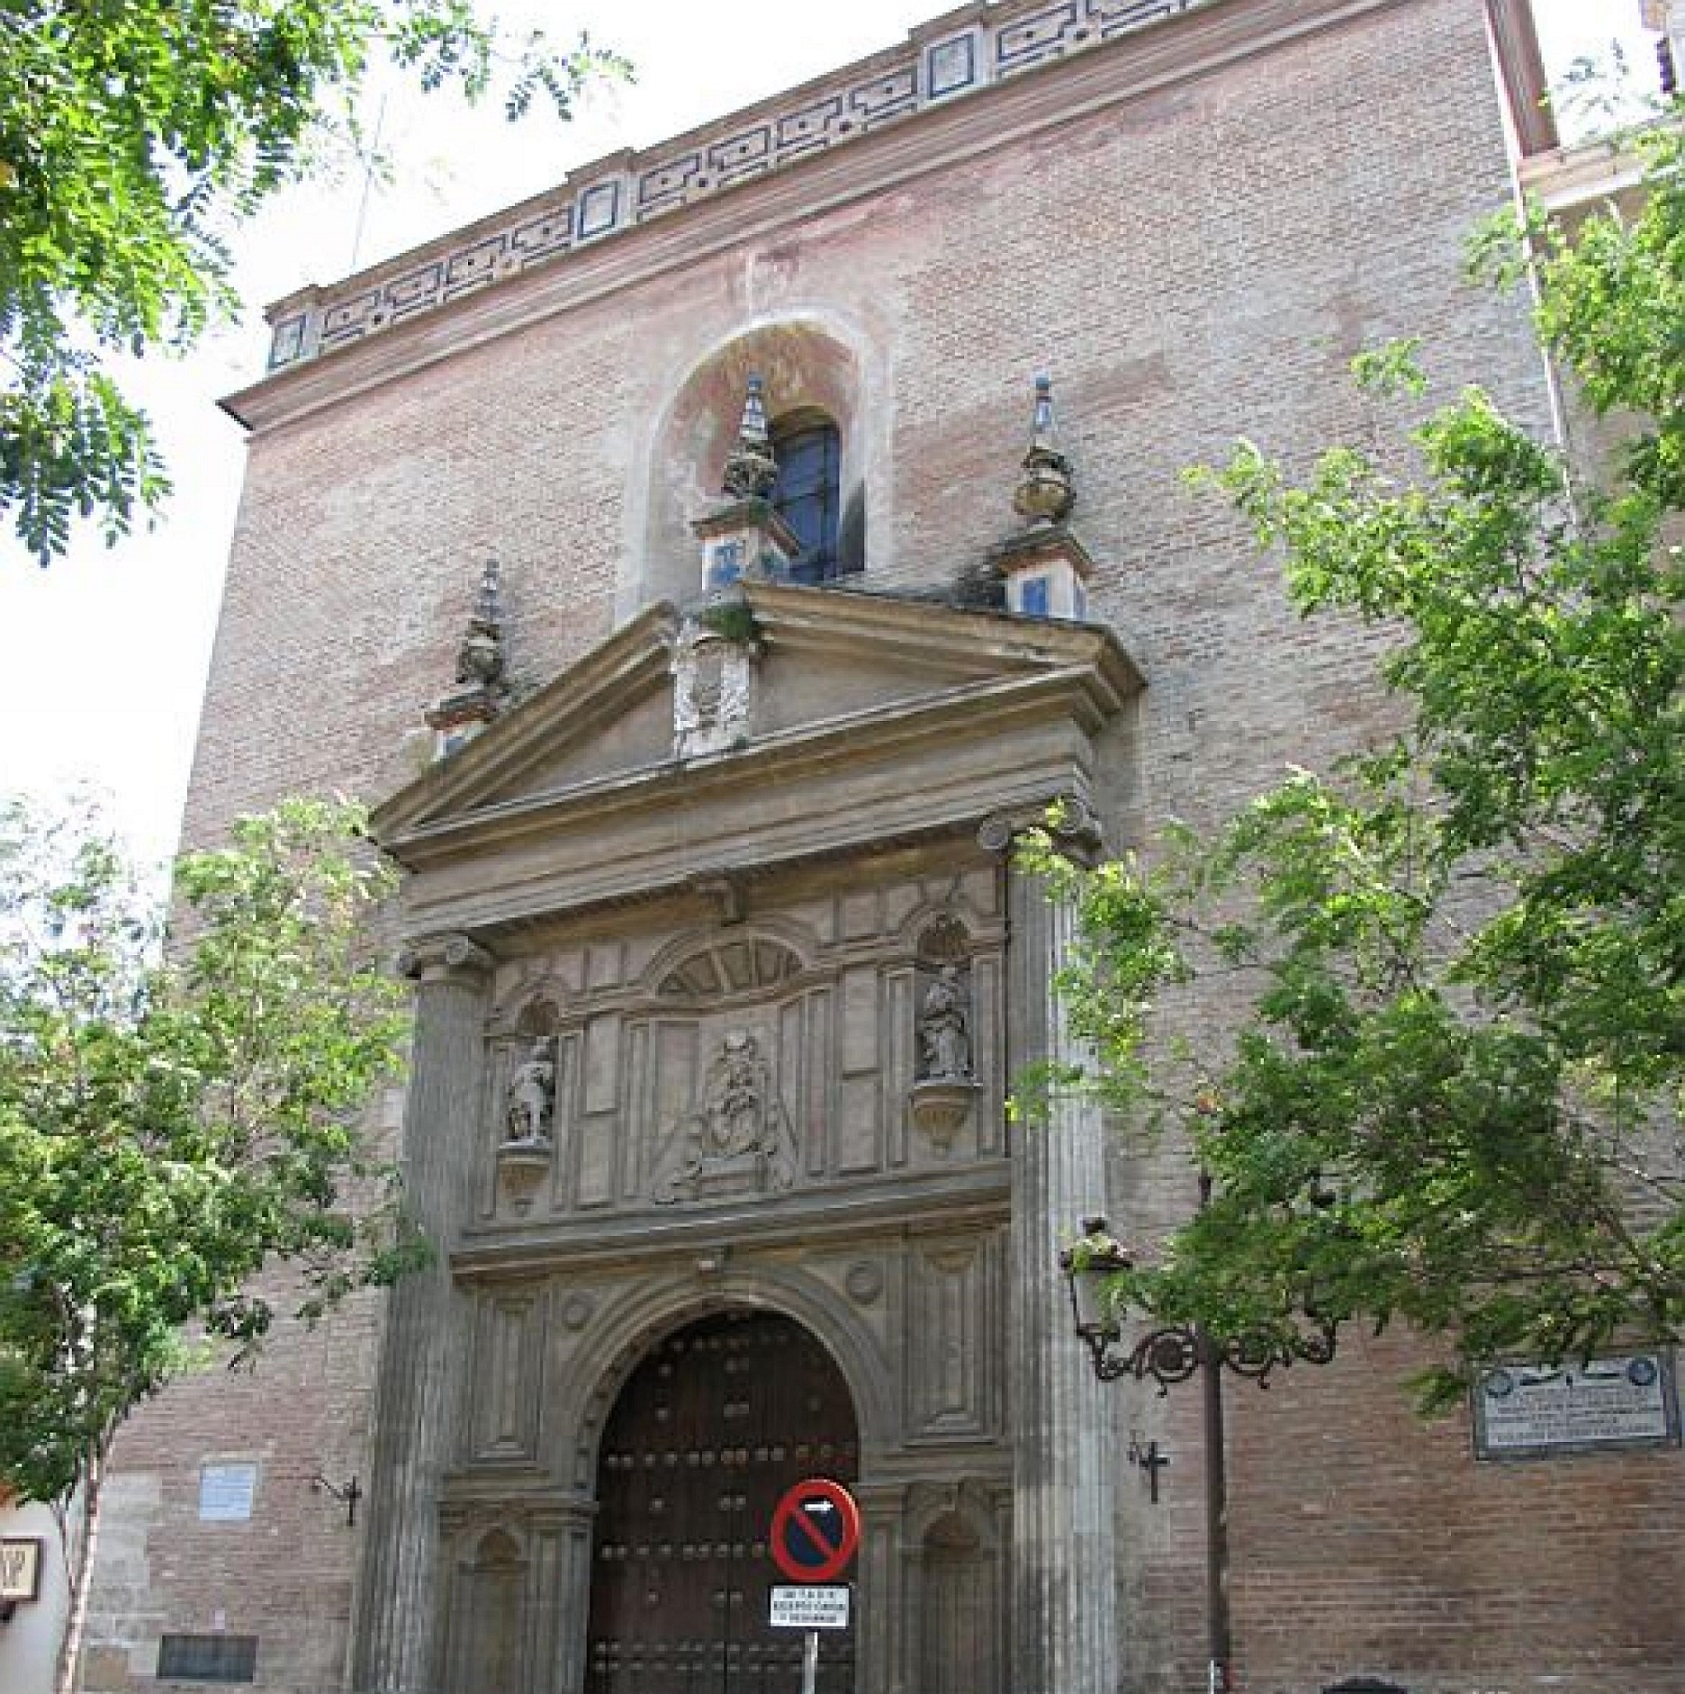arco-medio-punto: (555, 1284, 883, 1509)
fronton: (360, 560, 1119, 867)
